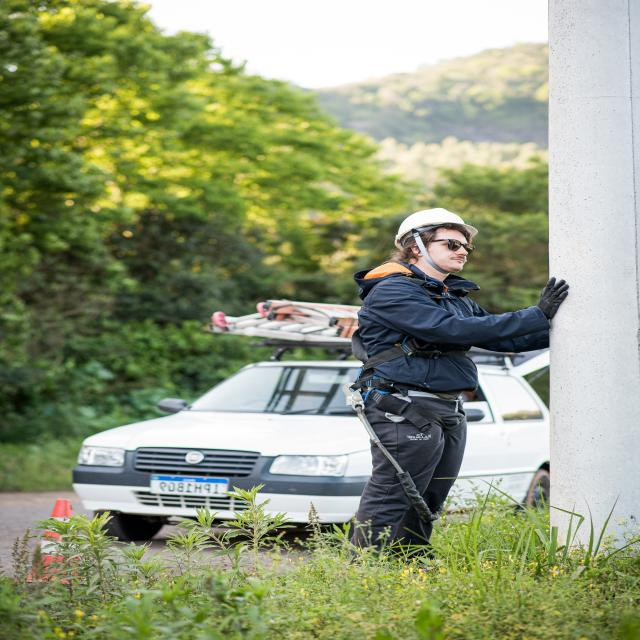capacete: (392, 207, 481, 251)
luva: (533, 276, 571, 320)
